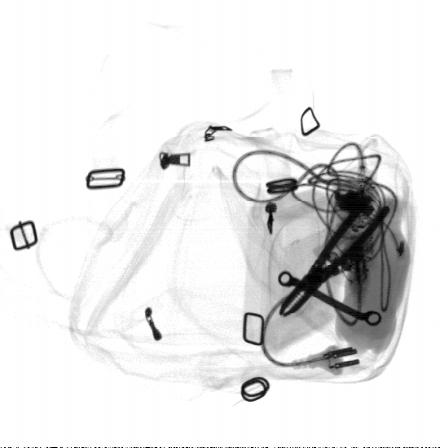Pliers: (278, 196, 392, 318)
Wrench: (277, 269, 383, 326)
